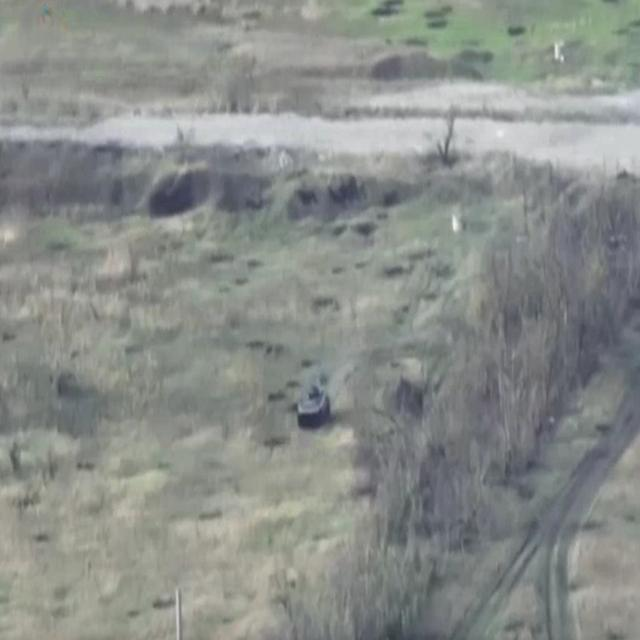AIFV: (297, 382, 333, 434)
